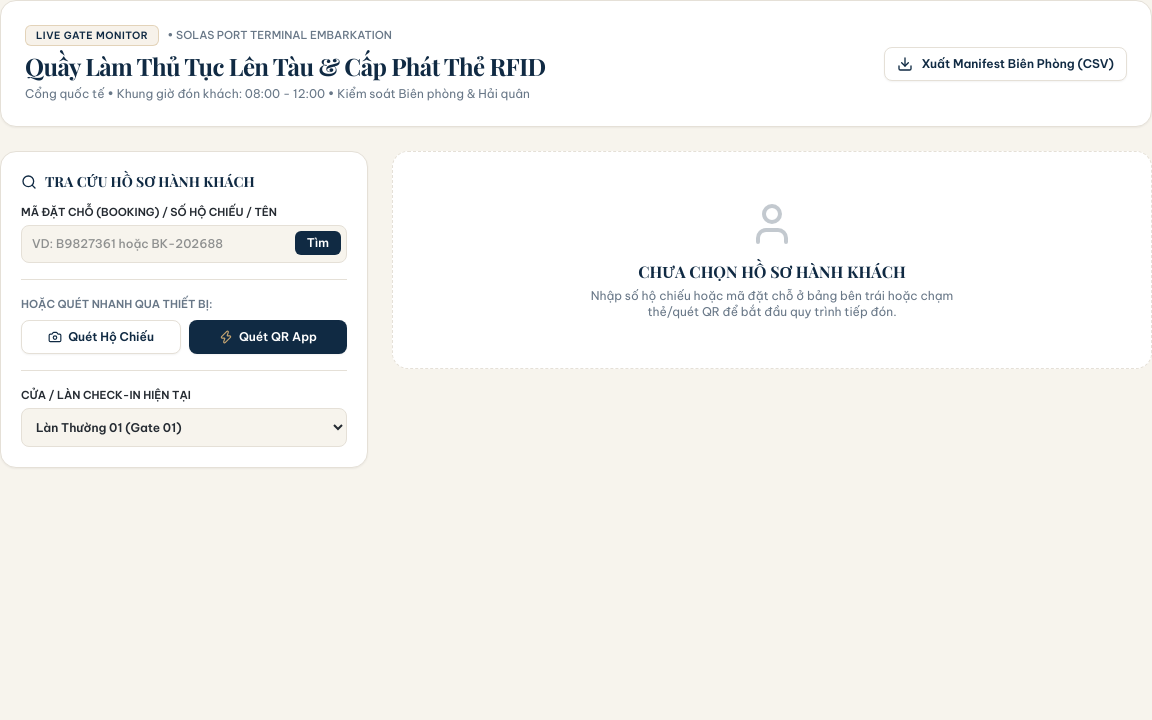
TerminalEmbarkationPage Integration Tests (KAN-387 / KAN-388) › binds RFID tag and confirms passenger boarding state
The image size is (1152, 720).
Type "B12345678" into the field with placeholder "VD: B9827361 hoặc BK-202688".
click(184, 244); type("B12345678")  # box [21, 224, 347, 262]
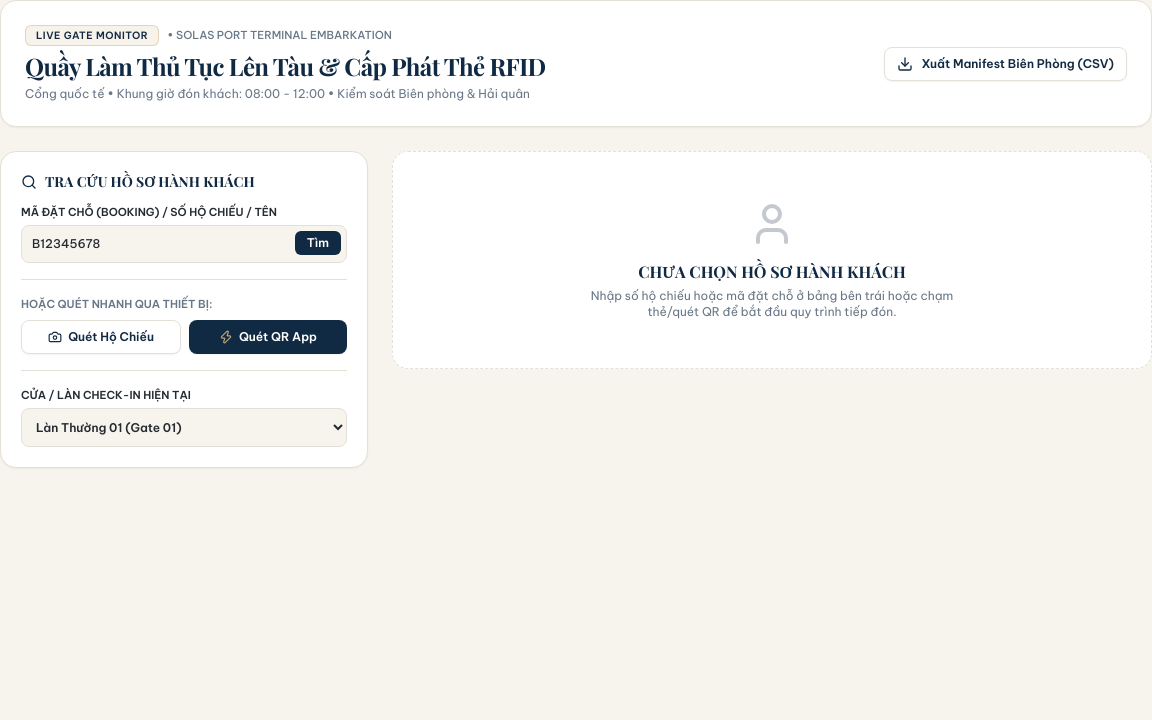
Click the button "Tìm".
click(318, 242)  # box [295, 230, 341, 254]
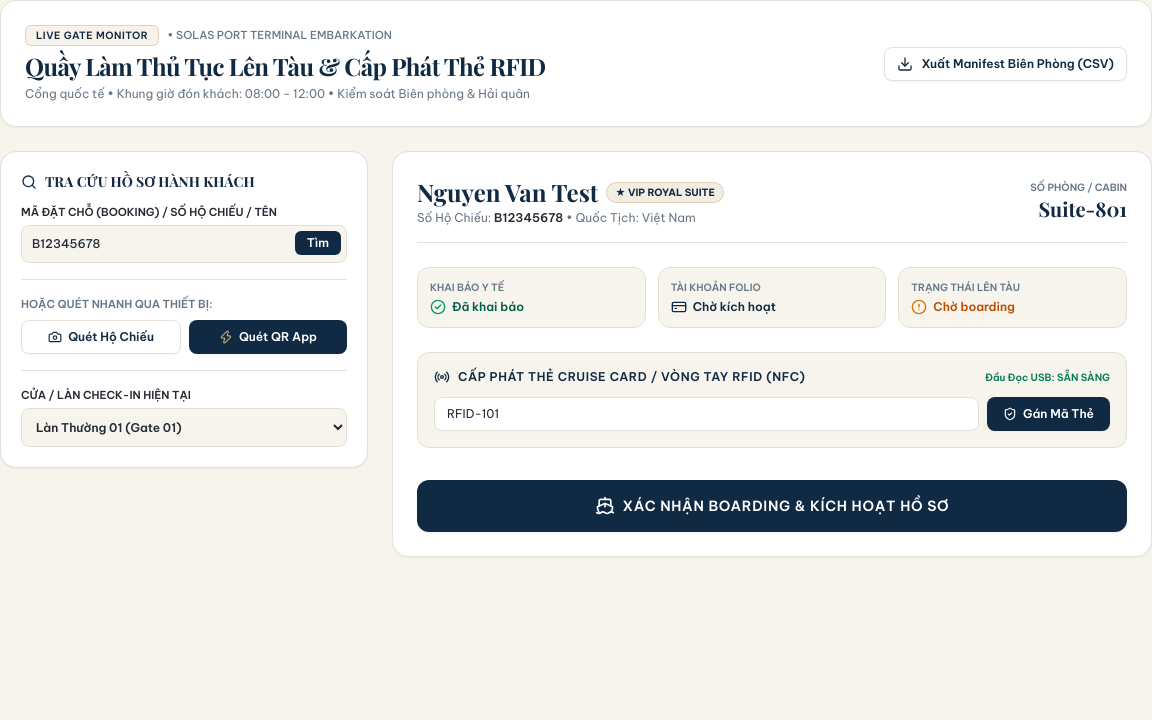
Result: the heading "Nguyen Van Test" is shown at [417, 176, 598, 208]
Note: Test RFID binding
Replace the text in the field with placeholder "Chạm thẻ trắng vào đầu đọc RFID..." with "RFID-NEW-TAG" at (706, 414), box [434, 397, 979, 431]
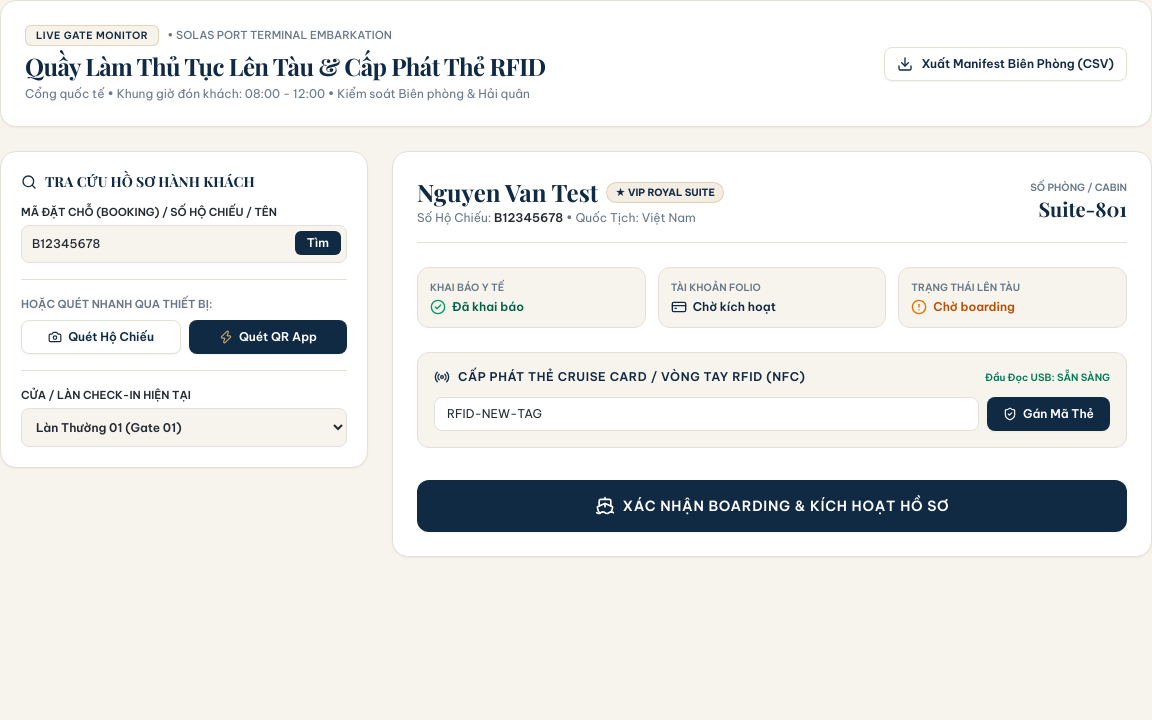
Click the button "Gán Mã Thẻ".
click(1048, 414)  # box [987, 397, 1110, 431]
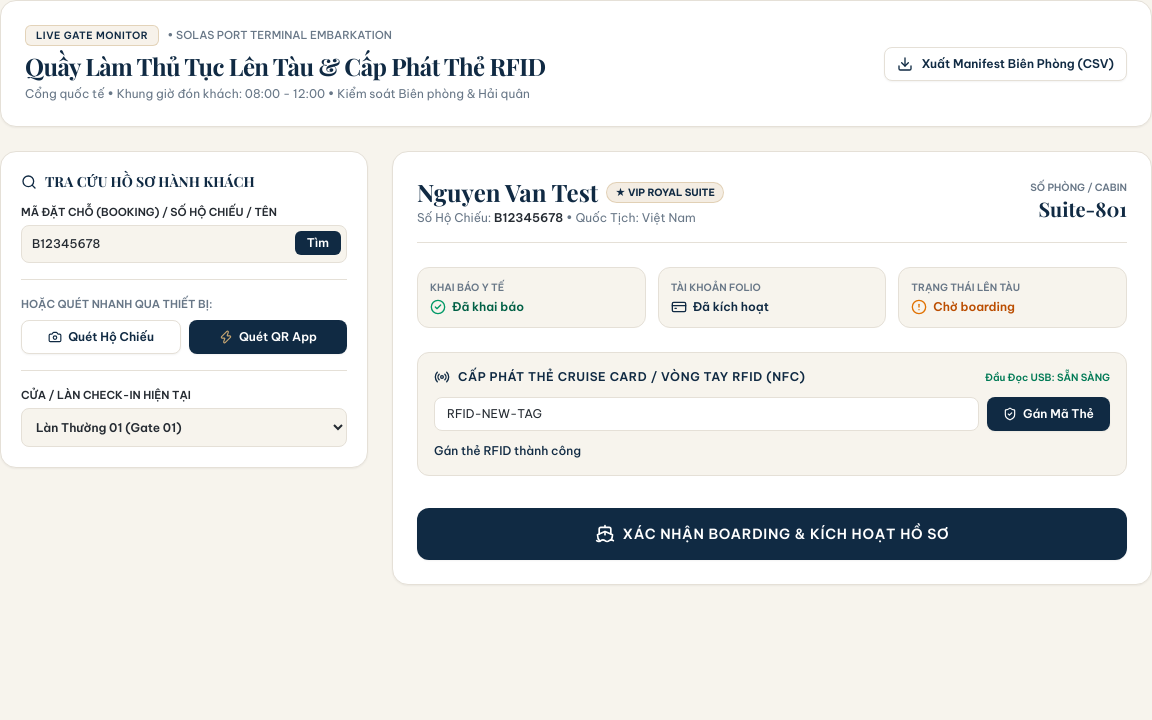
Result: the text "Gán thẻ RFID thành công" is shown at [434, 443, 581, 458]
Click the button "XÁC NHẬN BOARDING & KÍCH HOẠT HỒ SƠ".
click(772, 534)  # box [417, 508, 1127, 560]
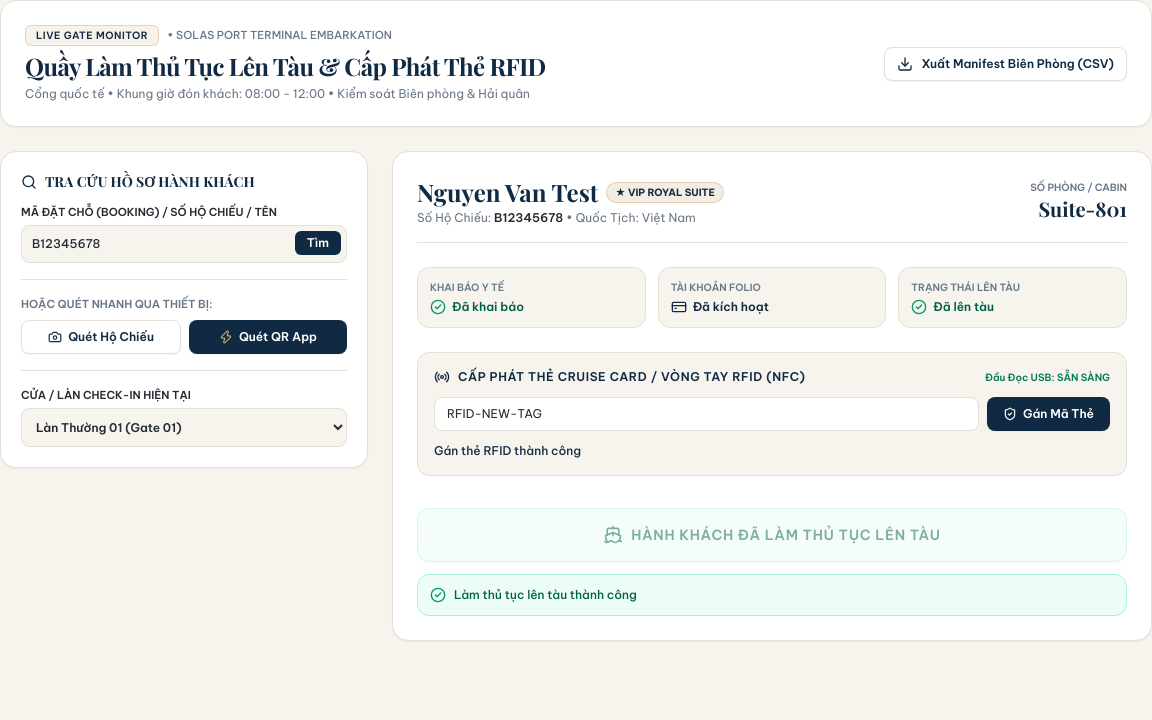
Result: the button "HÀNH KHÁCH ĐÃ LÀM THỦ TỤC LÊN TÀU" is shown at [417, 508, 1127, 562]
